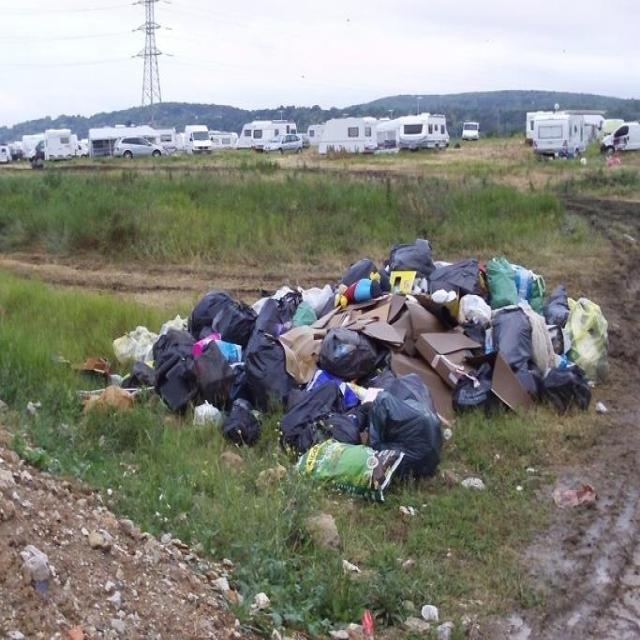garbage: (84, 237, 609, 498)
